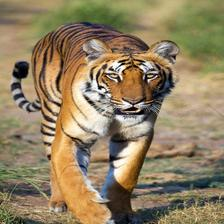tiger: (20, 21, 175, 224)
